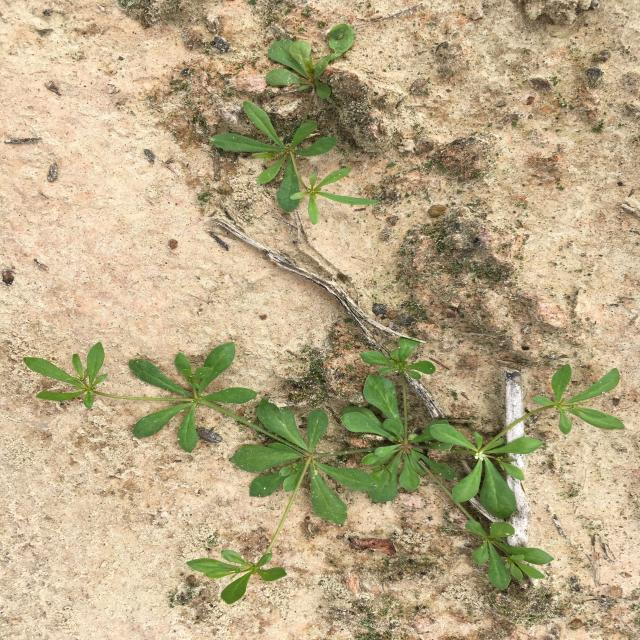Carpetweed: (24, 342, 625, 606), (209, 24, 380, 225)
